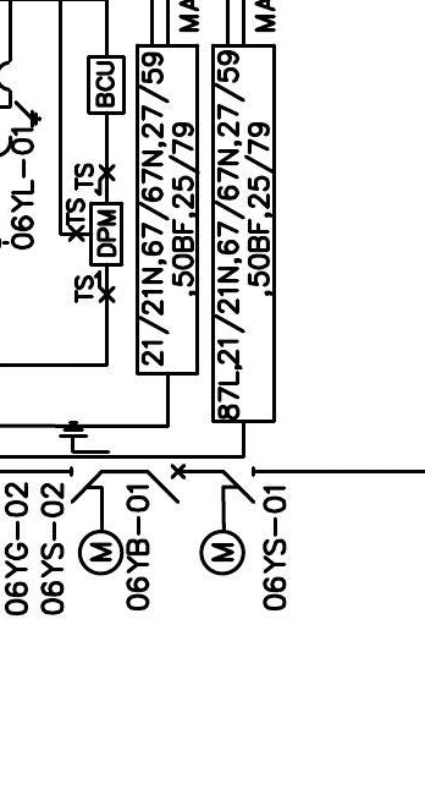115_1way_ds_w_motor: (198, 465, 256, 577)
115_3ways_ds_w_motor: (58, 420, 125, 577)
115_breaker: (146, 463, 186, 505)
BCU: (86, 54, 127, 116)
DPM: (88, 201, 124, 267)
